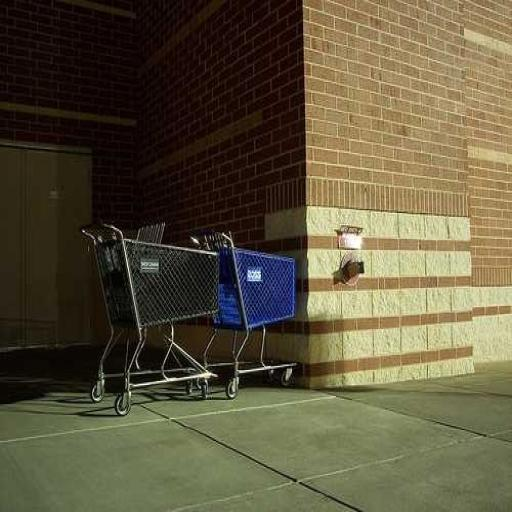shopping_cart: (79, 220, 220, 416), (190, 227, 295, 399)
